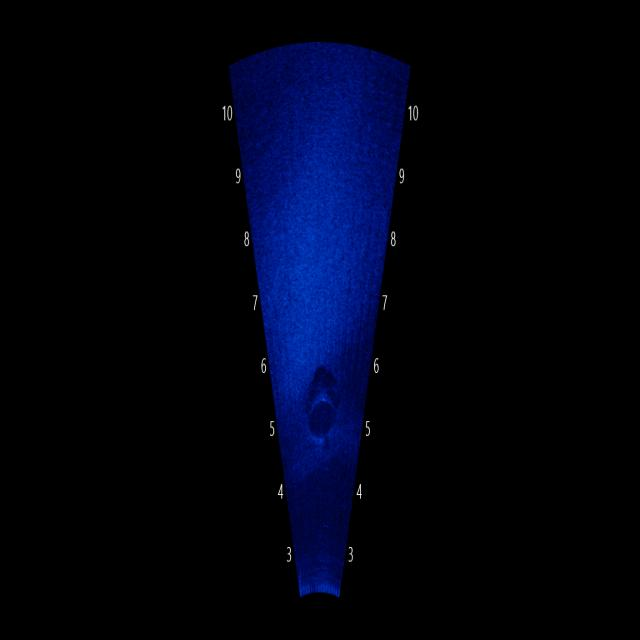circle: (300, 381, 341, 455)
